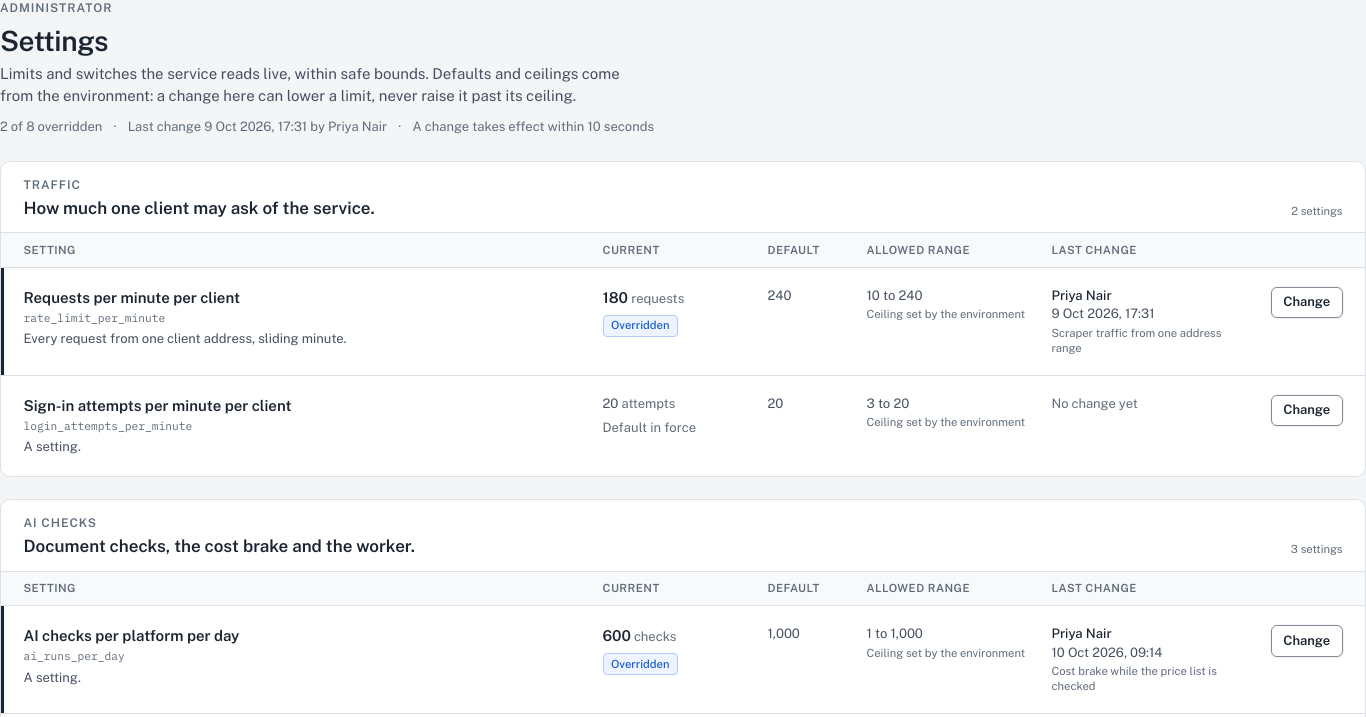
admin settings page (US-101) › the change dialog › sends the value, reason and password, then shows what the server returned
Click the button with aria-label "Change Requests per minute per client".
click(1307, 302)  # box [1271,287,1342,318]
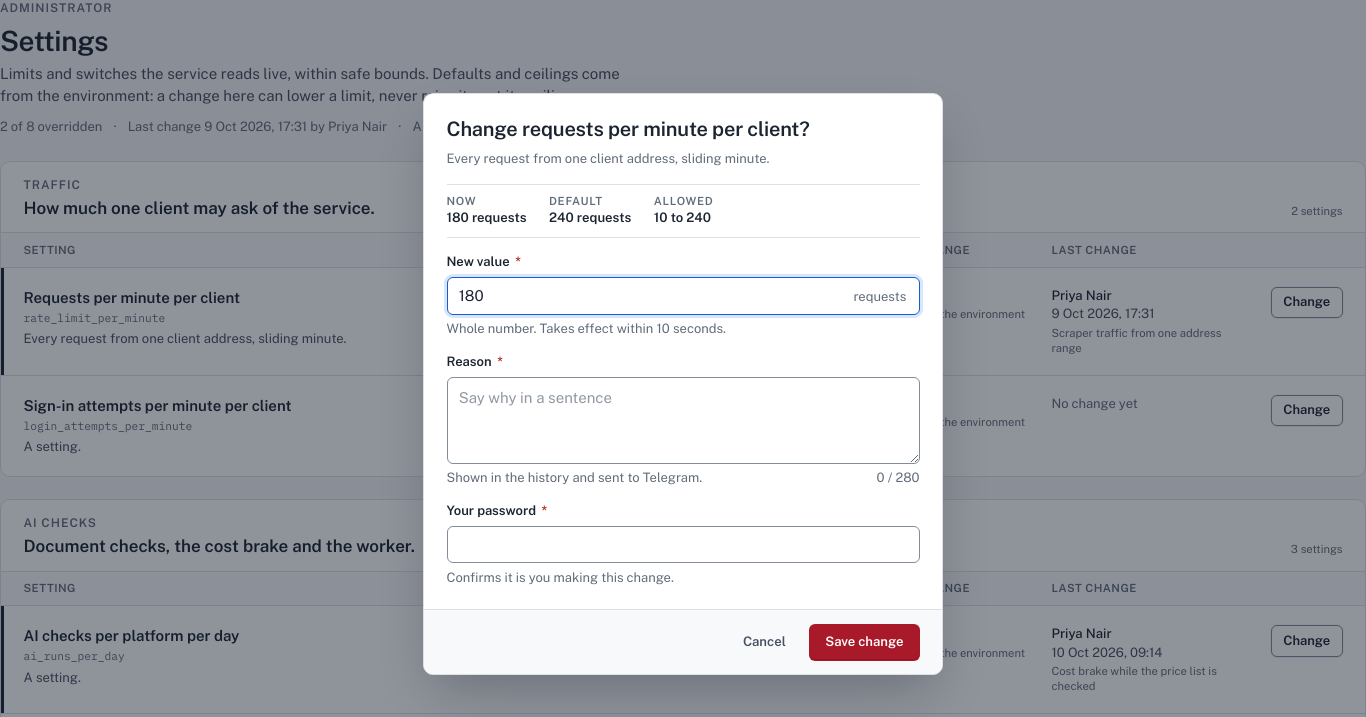
Replace the text in the field labelled "New value *" with "200" at (683, 296), box [446,277,920,314]
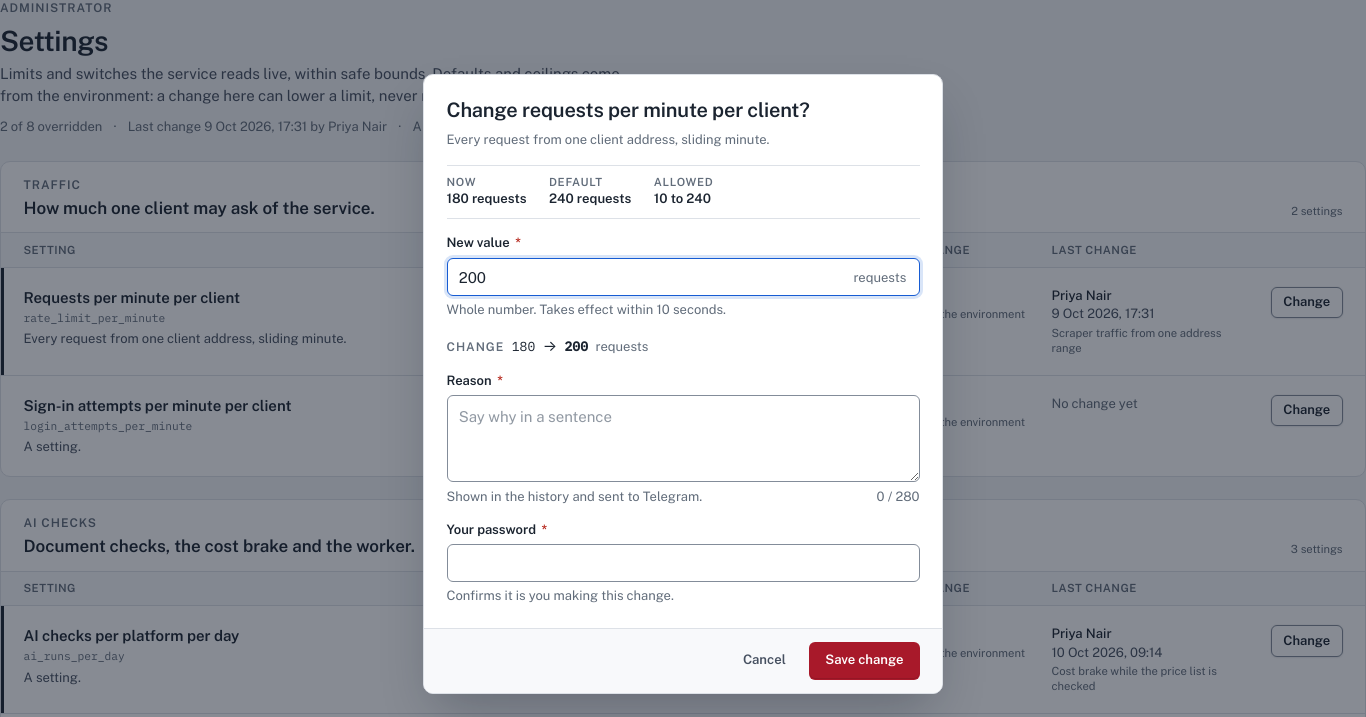
Type "  Load test finished  " into the text box labelled "Reason *".
click(683, 439); type("  Load test finished  ")  # box [446,395,920,482]
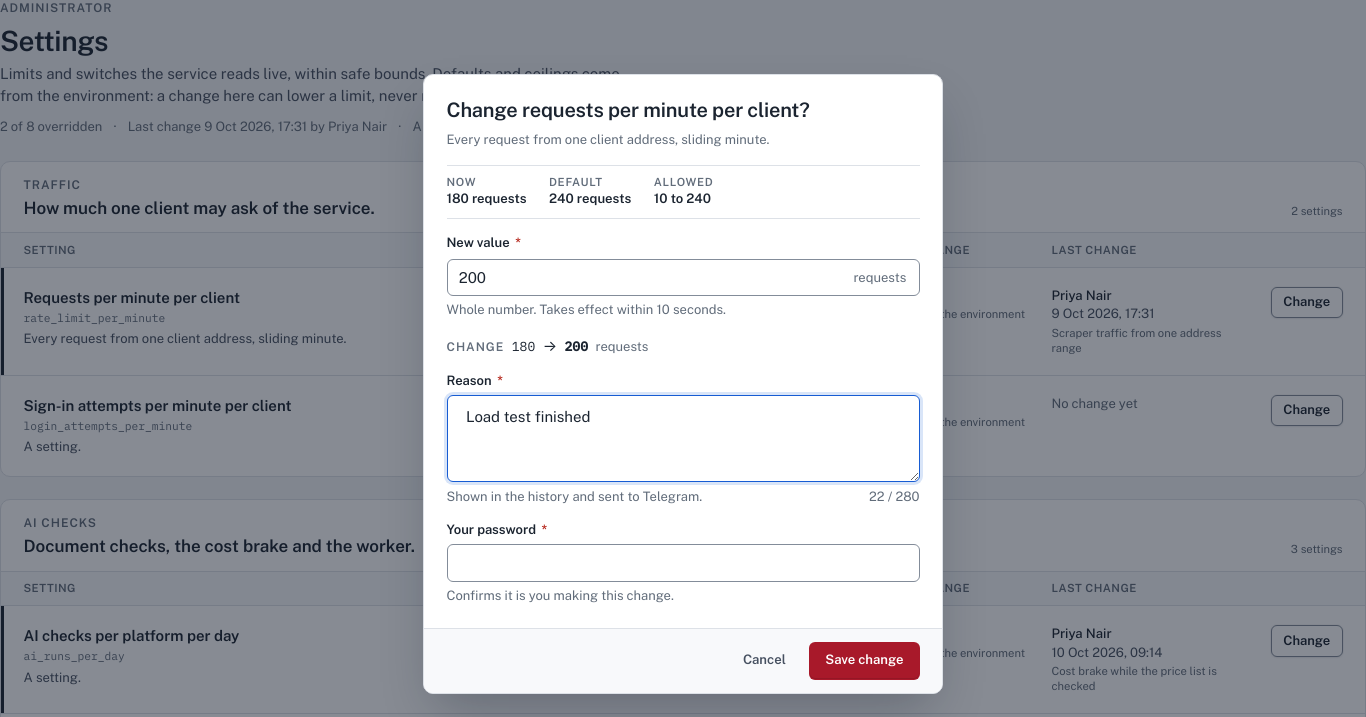
Type "Admin-Own-Pass-1" into the password field labelled "Your password *".
click(683, 563); type("Admin-Own-Pass-1")  # box [446,544,920,582]
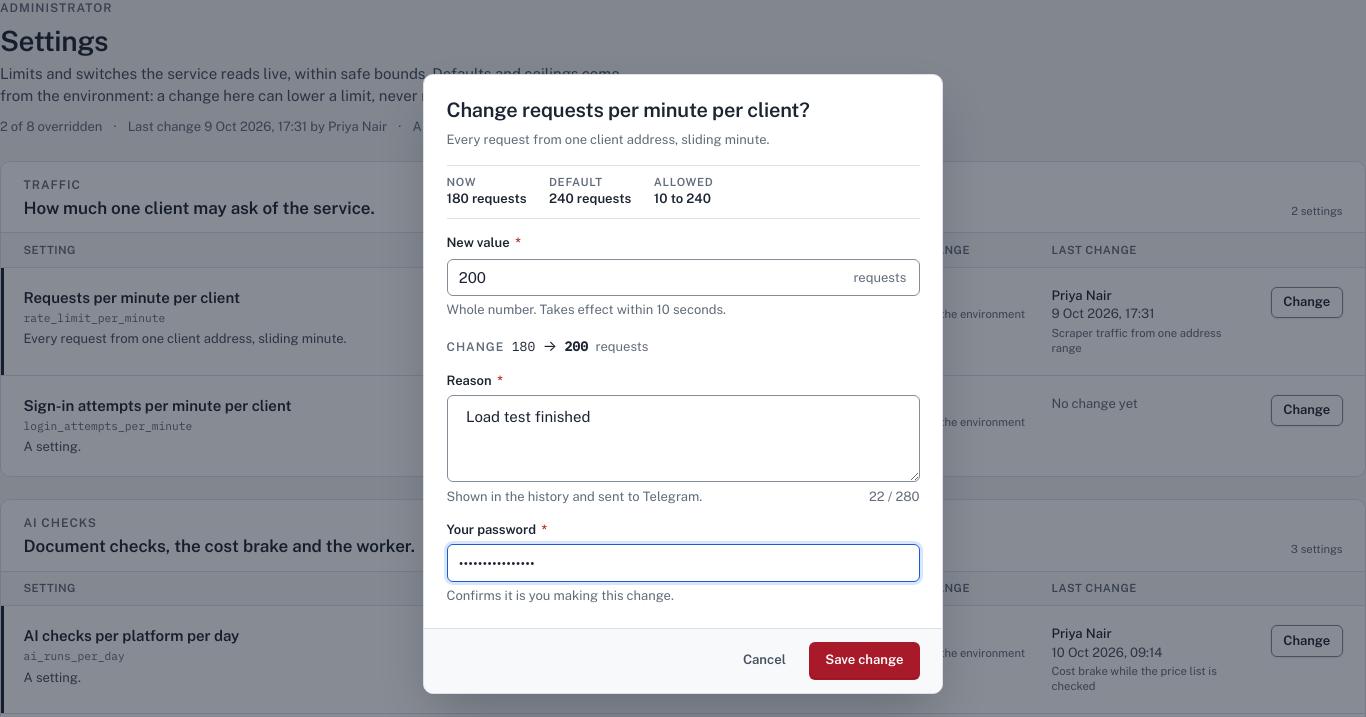
Click the button "Save change".
click(864, 661)  # box [809,642,920,680]
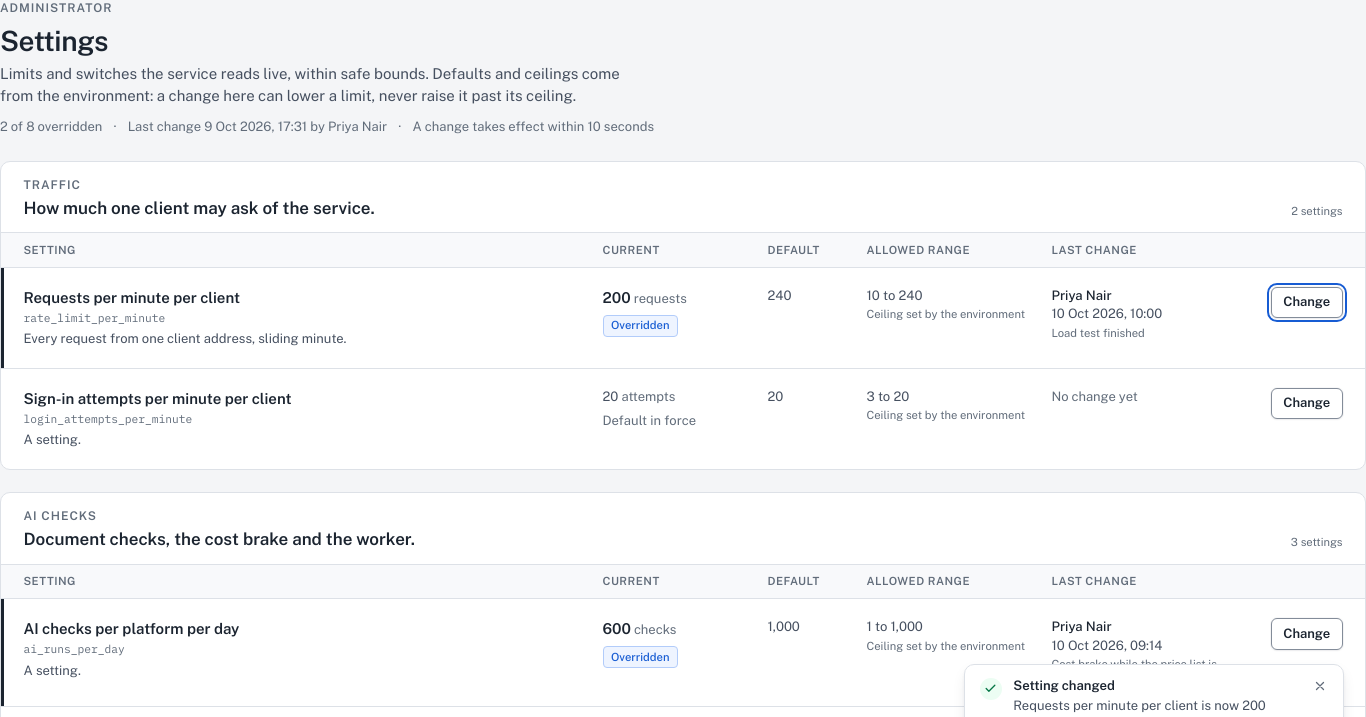
Check: the text "Load test finished" is shown, box [1052,326,1145,340]
